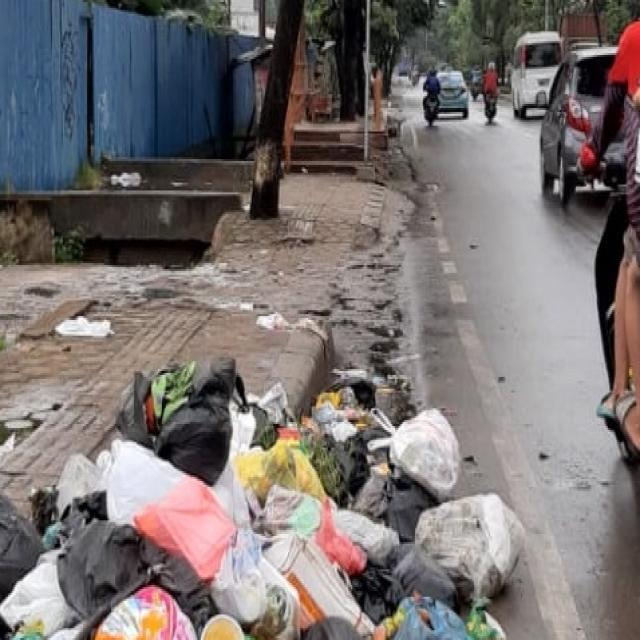Trashbag: (50, 530, 212, 628), (125, 357, 237, 472), (360, 548, 465, 624), (370, 472, 435, 537)
